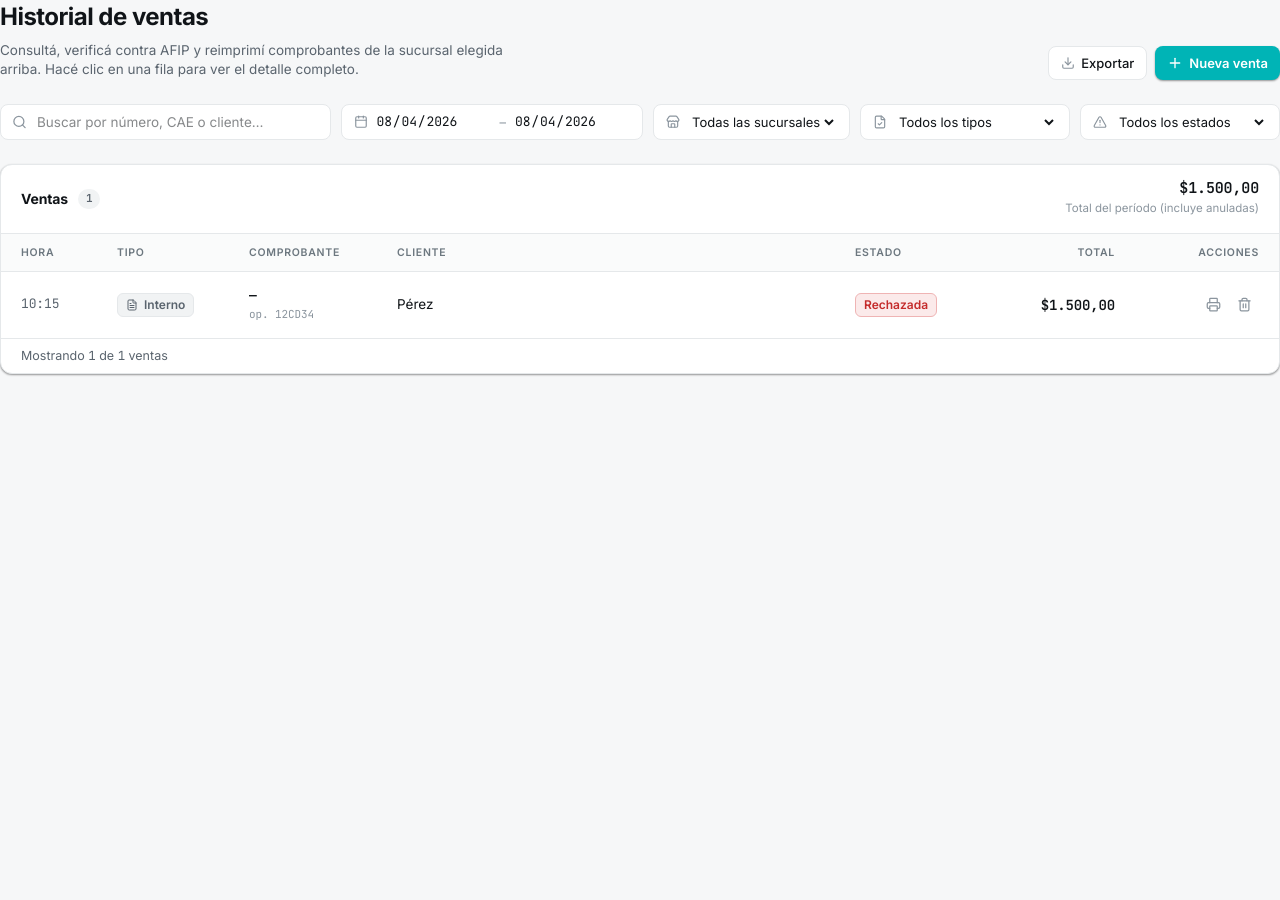
Reintentar la facturación no emite de un clic › apretar el botón NO manda el pedido hasta confirmar
This screenshot has width=1280, height=900.
Step 1. Click the button "Pérez" → (40, 304), box [1,272,1279,339]
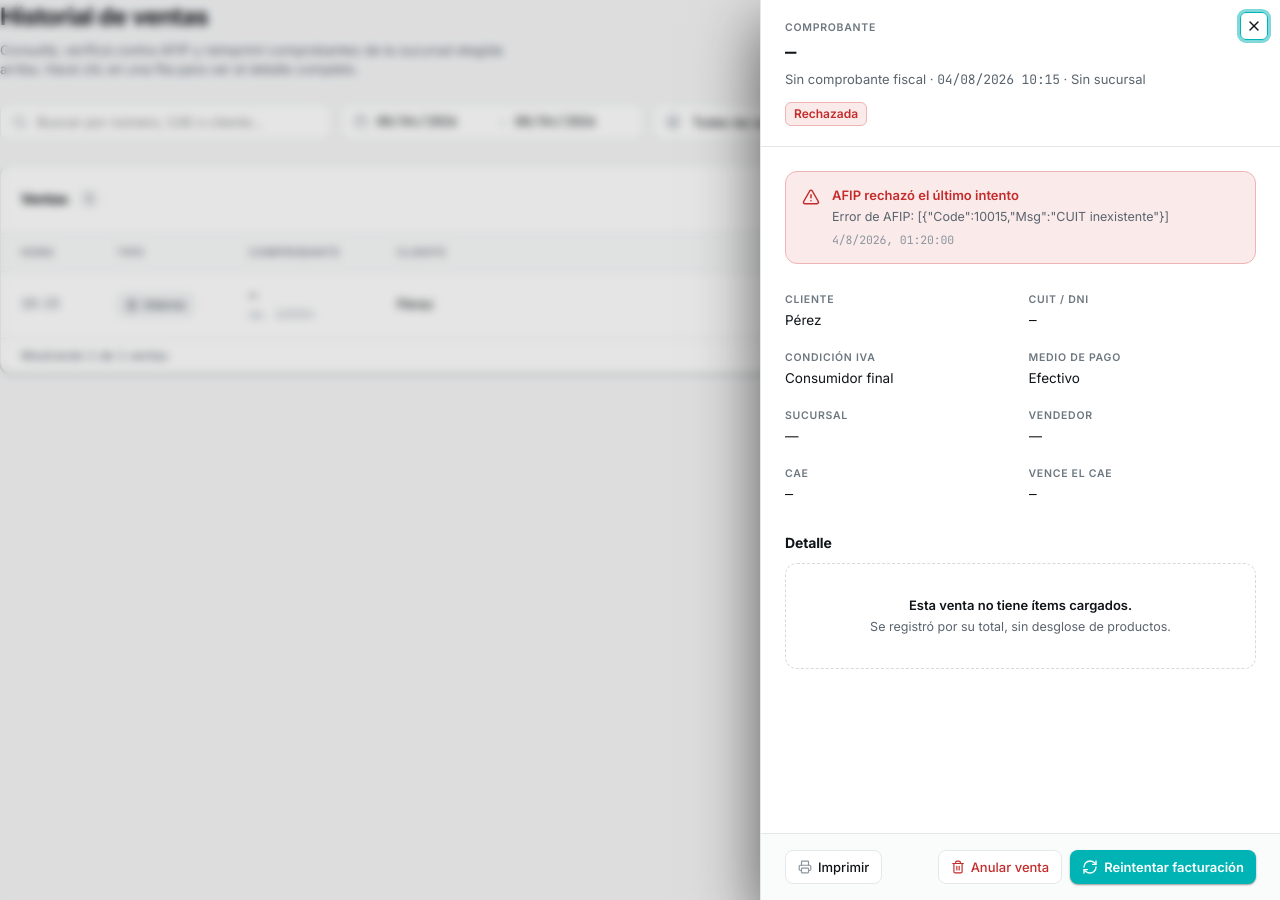
Step 2. Click the button "Reintentar facturación" → (1163, 867), box [1070,850,1256,884]
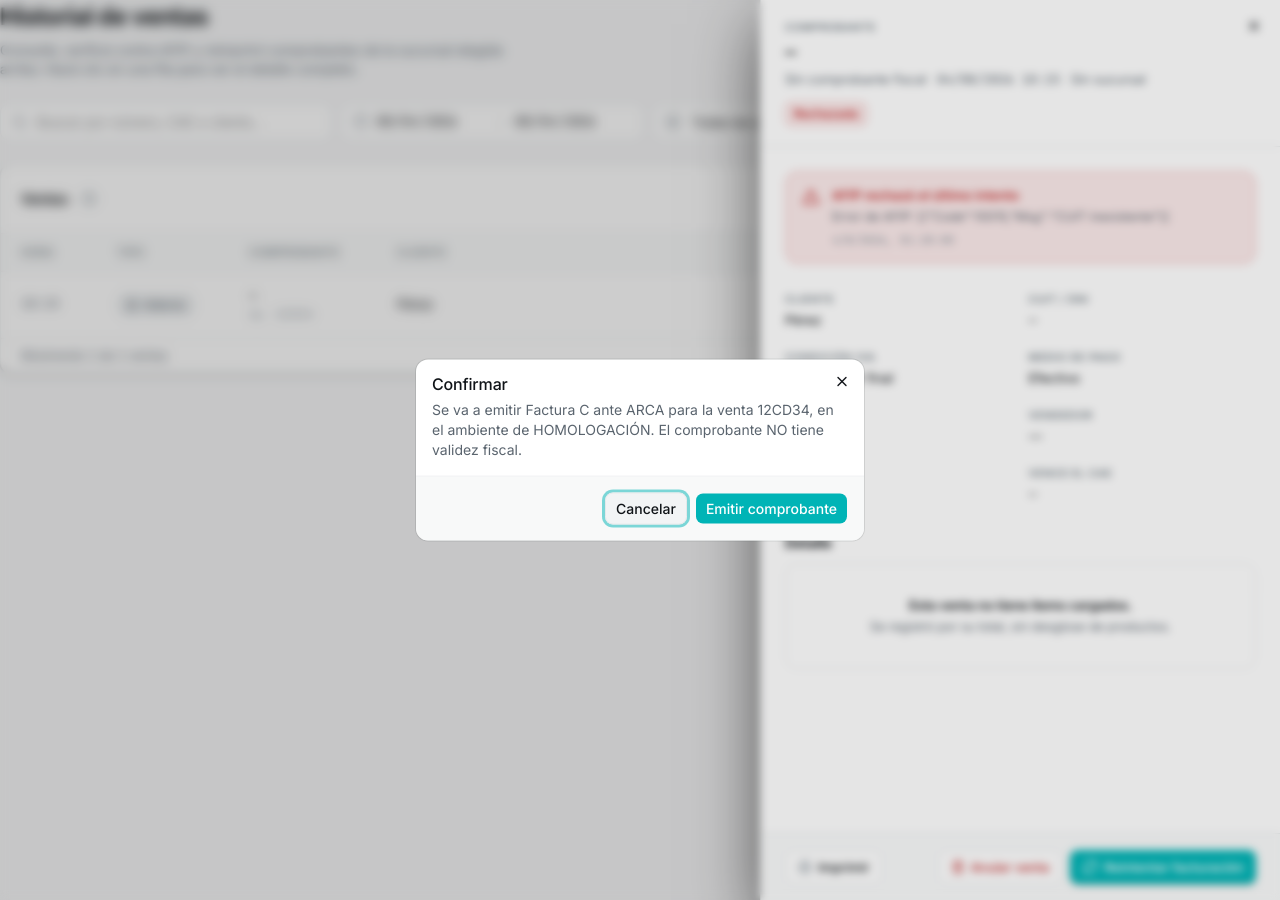
Check: the button "Emitir comprobante" is shown, box [695,492,848,524]
